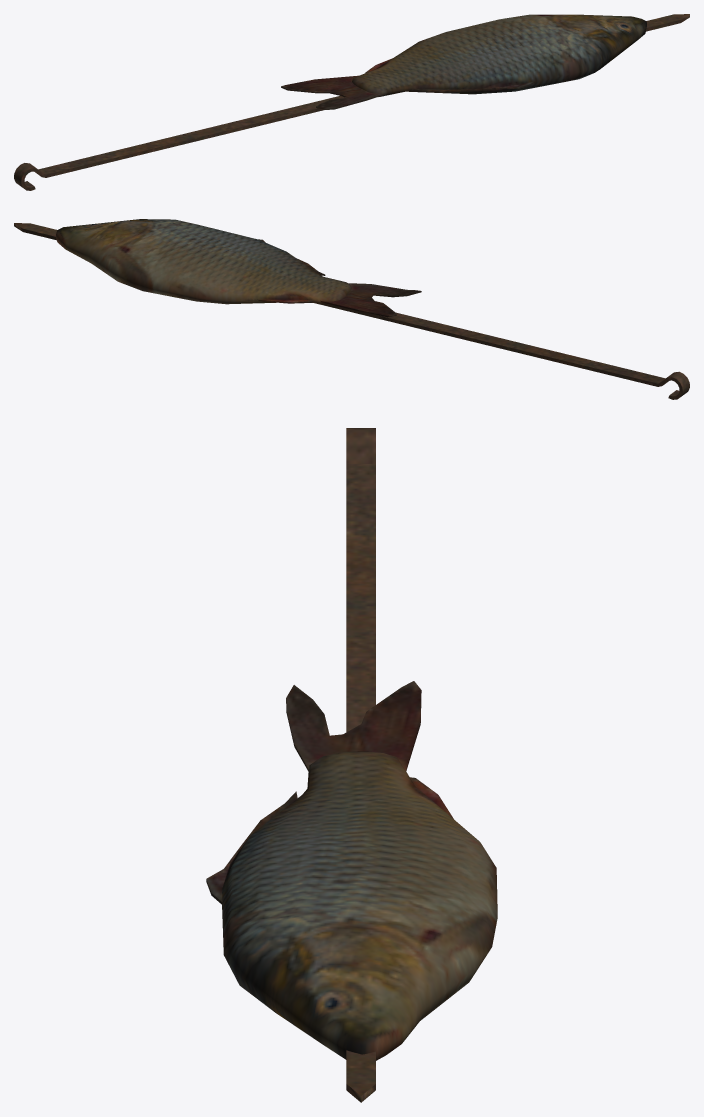
File: melee_fish_skewer_mx_1.obj
3 views of the same model, one above another, from view 1: azimuth 30°, elevation 25°; view 2: azimuth 150°, elevation 25°; view 3: azimuth 270°, elevation 25° (orthographic). The views are drawn at different scales.
Visible parts, largest first — view 1: melee_fish_skewer_mx_1; view 2: melee_fish_skewer_mx_1; view 3: melee_fish_skewer_mx_1.
Part boxes in pixels (x1,y1,x2,y2): melee_fish_skewer_mx_1: (14, 14, 689, 190); melee_fish_skewer_mx_1: (14, 219, 689, 399); melee_fish_skewer_mx_1: (206, 428, 497, 1102).
Bounding box in the file's own units: 1.06 × 0.0646 × 0.1985.
